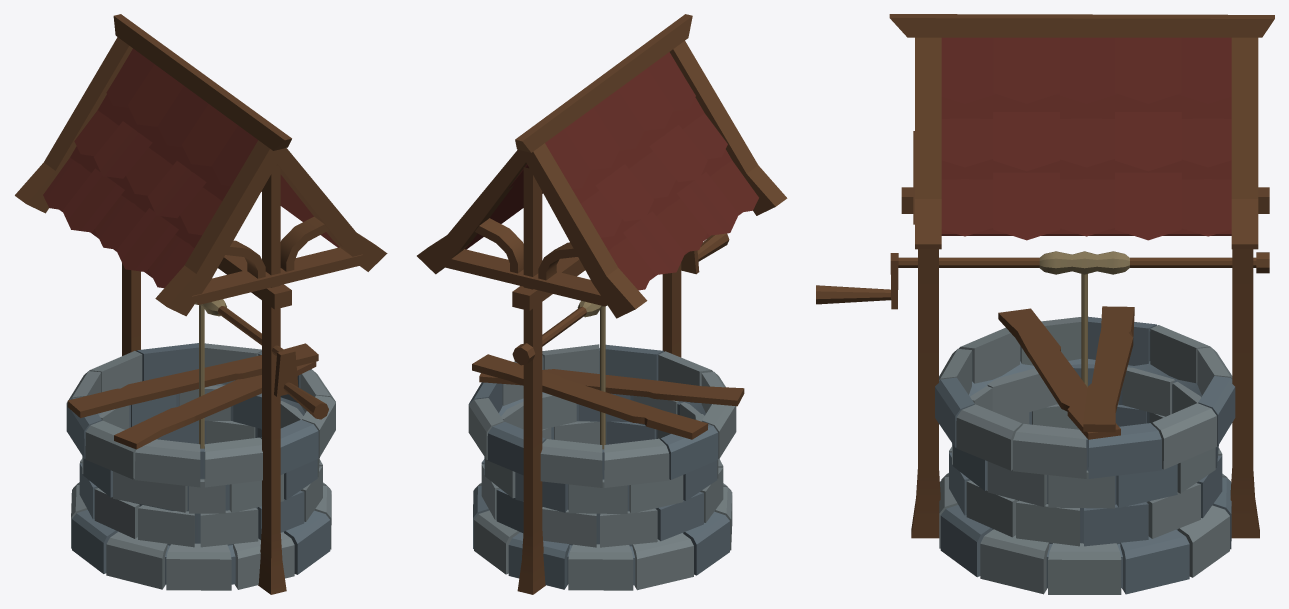
Rendered from well.glb.
The picture shows the model from 3 angles, left to right: view 1: azimuth 30°, elevation 25°; view 2: azimuth 150°, elevation 25°; view 3: azimuth 270°, elevation 25°; orthographic projection. The views are drawn at different scales.
Parts seen in each view (by area): view 1: Well; view 2: Well; view 3: Well.
Part boxes in pixels (left/top/right/bottom): Well: left=15, top=14, right=387, bottom=594; Well: left=417, top=14, right=787, bottom=594; Well: left=816, top=14, right=1274, bottom=594.
Bounding box in the file's own units: 0.6664 × 1.25 × 1.
1 material, 1 textured.
